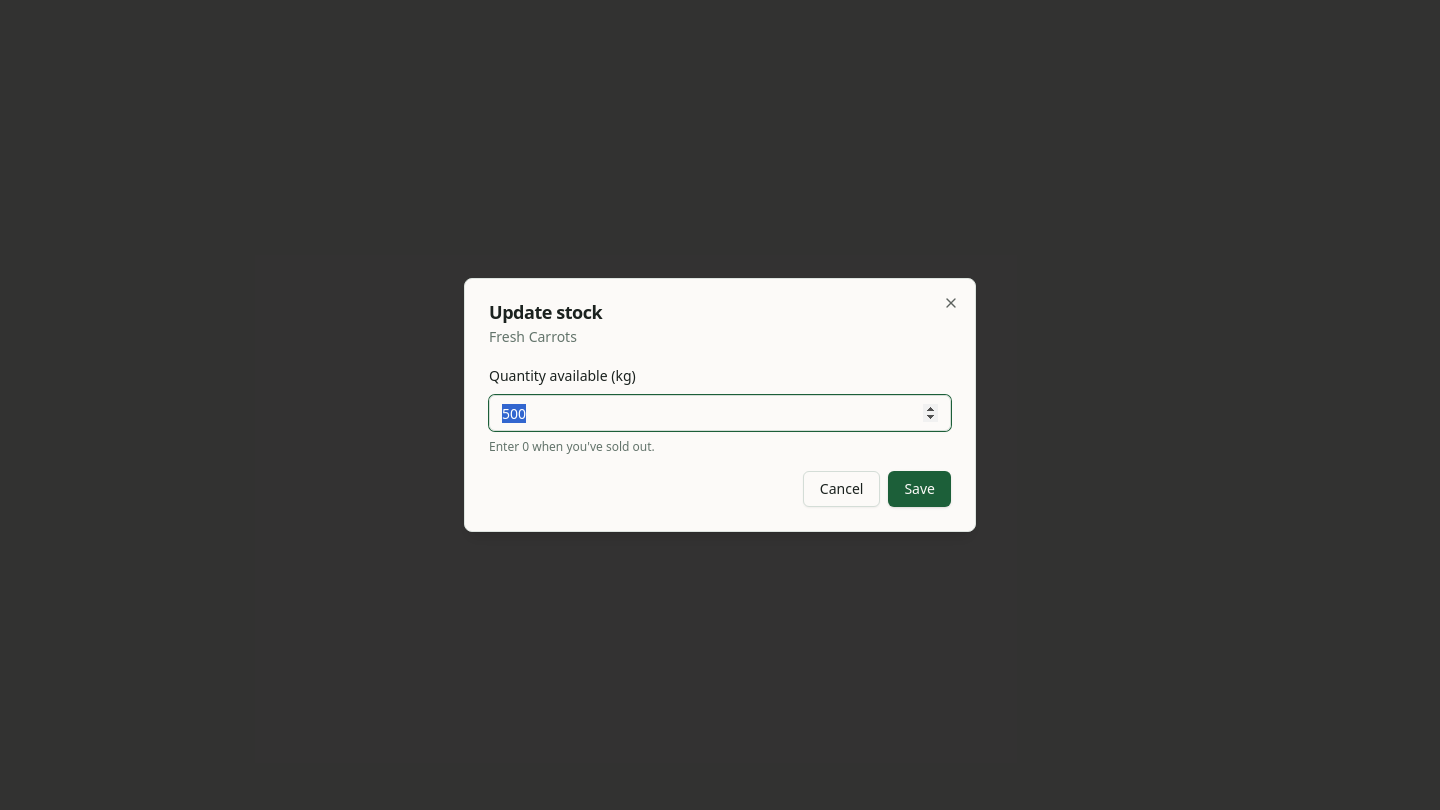
Test: StockDialog › shows the error when saving fails
Click the button "Save".
click(920, 489)  # box [888,471,951,507]
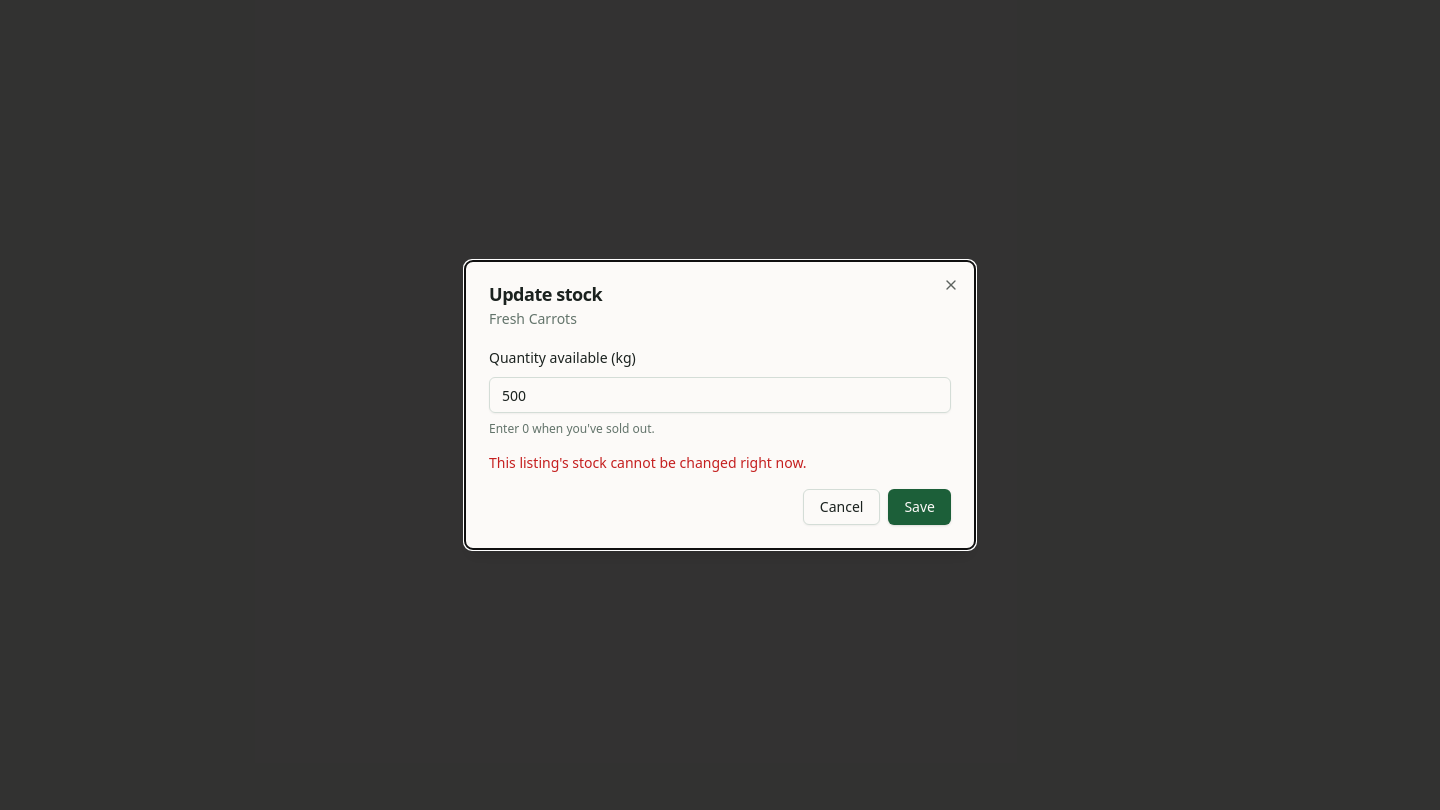
Expected: the message shows "cannot be changed right now", [489,453,807,472]
